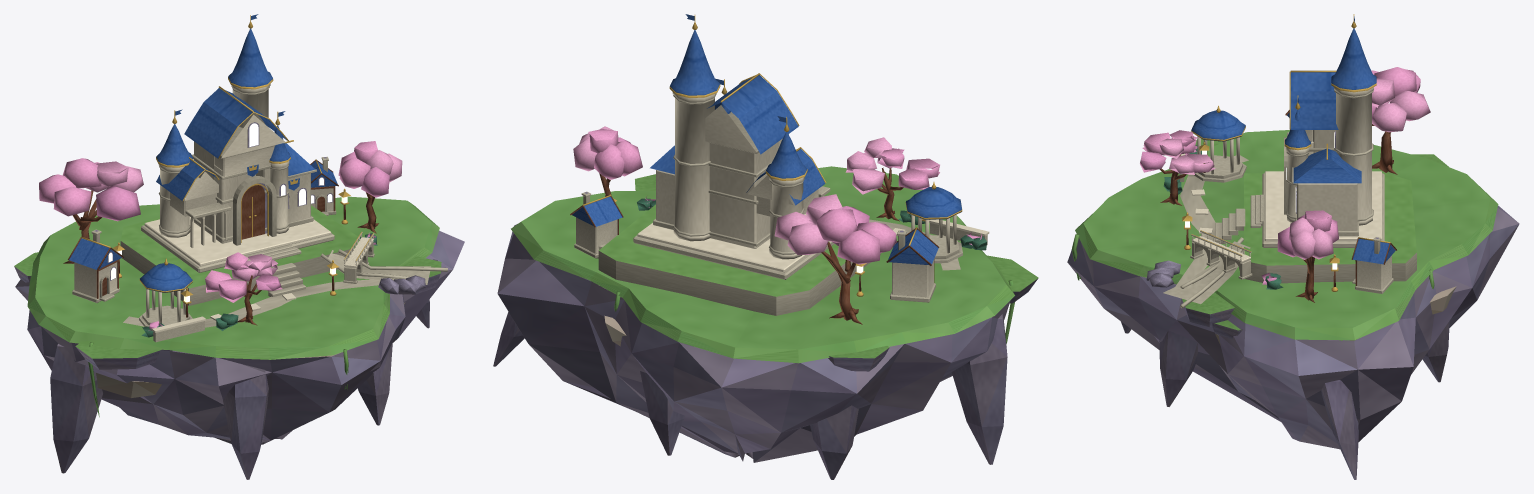
Rendered from royal-island-right-v2-low.glb.
3 views of the same model, side by side, from view 1: azimuth 30°, elevation 25°; view 2: azimuth 150°, elevation 25°; view 3: azimuth 270°, elevation 25° (orthographic). The views are drawn at different scales.
Parts seen in each view (by area): view 1: royal-island-right-v2; view 2: royal-island-right-v2; view 3: royal-island-right-v2.
Part boxes in pixels (box(x1,y1,x2,y2)): royal-island-right-v2: box(14, 14, 464, 479); royal-island-right-v2: box(493, 14, 1038, 479); royal-island-right-v2: box(1067, 14, 1519, 479).
Bounding box in the file's own units: 18.3 × 16.74 × 15.97.
Materials: 10 (10 with a texture image).
